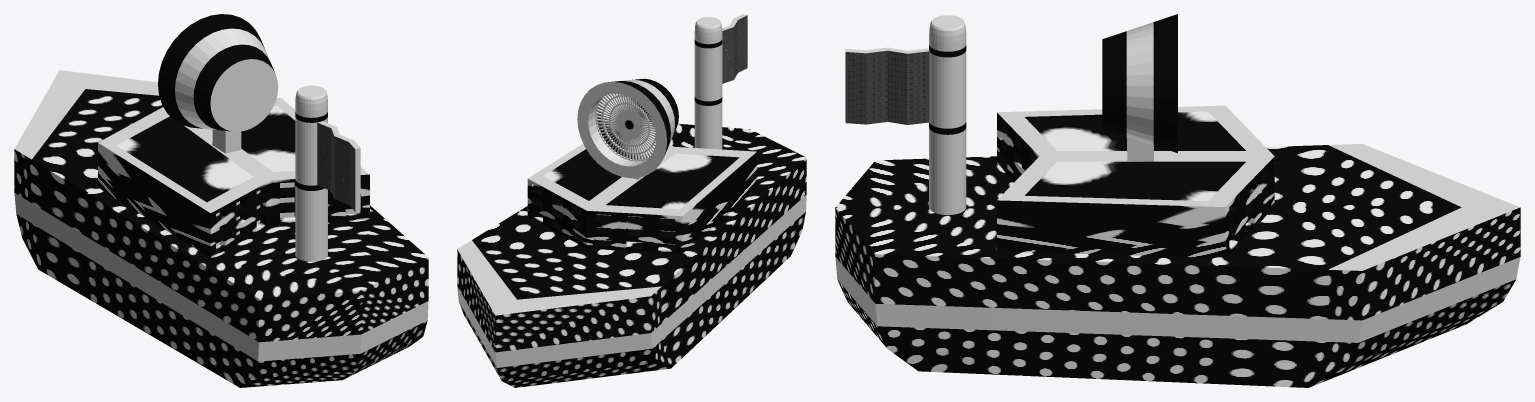
File: BLACK_Flagship.fbx
The picture shows the model from 3 angles, left to right: view 1: azimuth 30°, elevation 25°; view 2: azimuth 150°, elevation 25°; view 3: azimuth 270°, elevation 25°; orthographic projection. The views are drawn at different scales.
Parts seen in each view (by area): view 1: Cube, Cylinder, Cylinder.001; view 2: Cube, Cylinder, Cylinder.001; view 3: Cube, Cylinder.001, Cylinder.
Part boxes in pixels (x1,y1,x2,y2): Cube: [14, 70, 428, 387]; Cylinder: [158, 14, 278, 153]; Cylinder.001: [295, 85, 360, 261]; Cube: [457, 123, 806, 387]; Cylinder: [577, 78, 678, 179]; Cylinder.001: [694, 14, 747, 149]; Cube: [835, 105, 1520, 387]; Cylinder.001: [845, 15, 966, 214]; Cylinder: [1102, 14, 1177, 161].
Bounding box in the file's own units: 510 × 569 × 1160.
